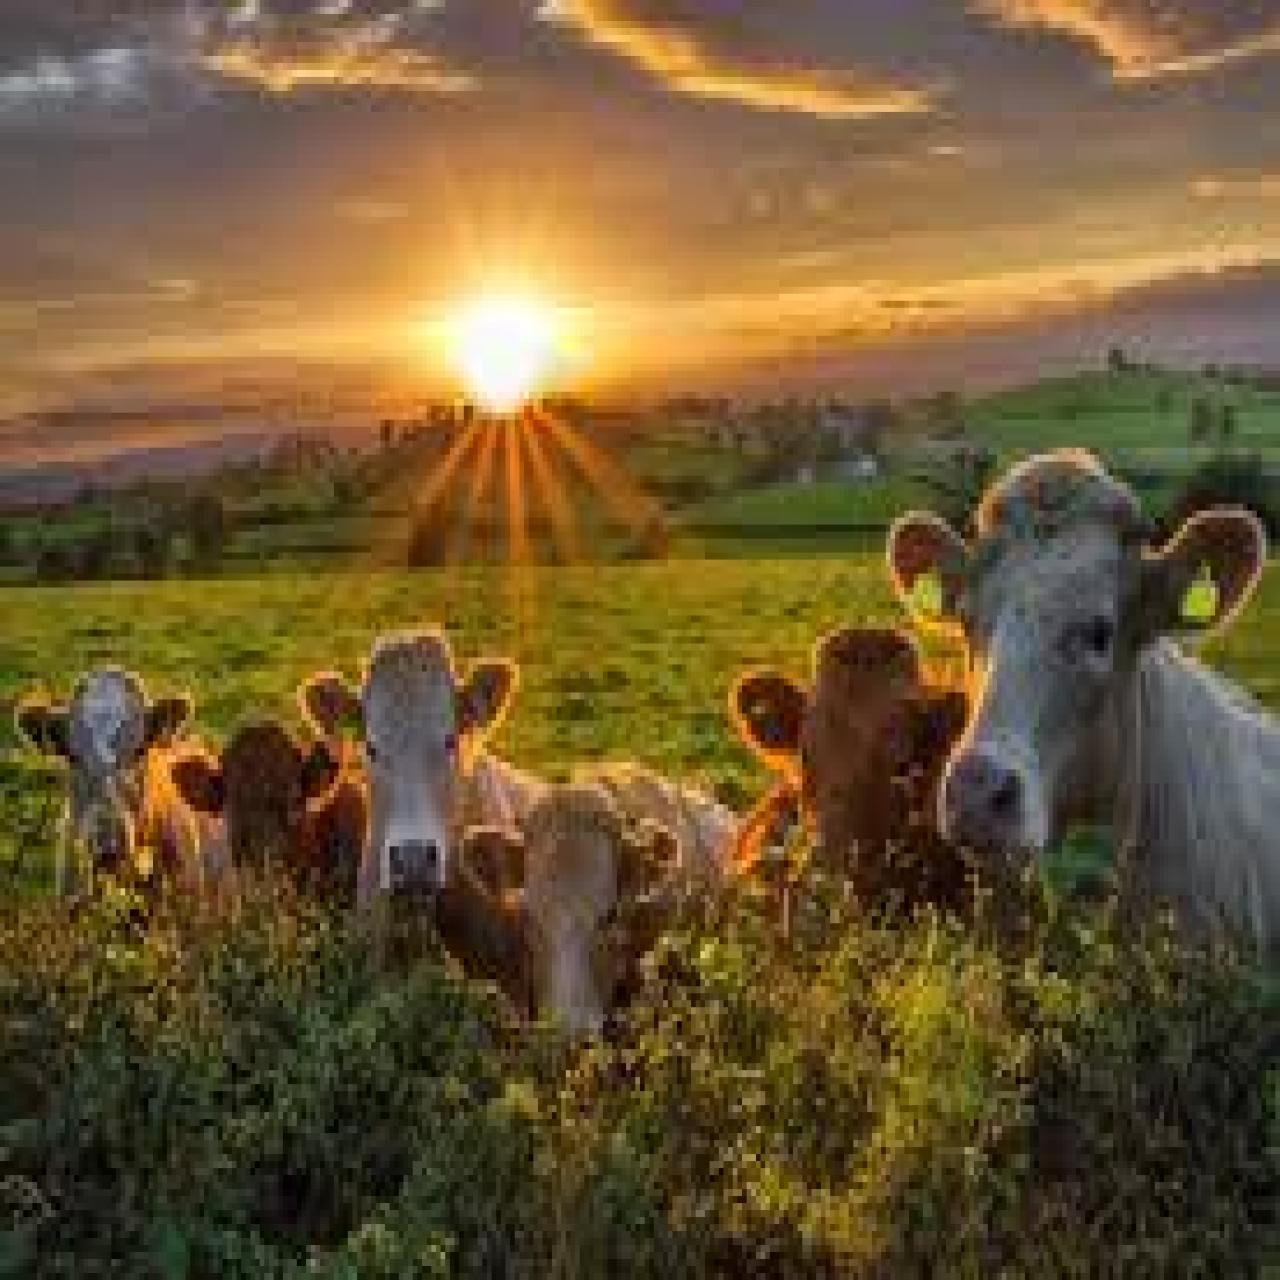cow: (886, 448, 1280, 972), (304, 633, 536, 1032), (462, 756, 740, 1049), (730, 626, 972, 961), (14, 665, 241, 931), (169, 717, 369, 920)
